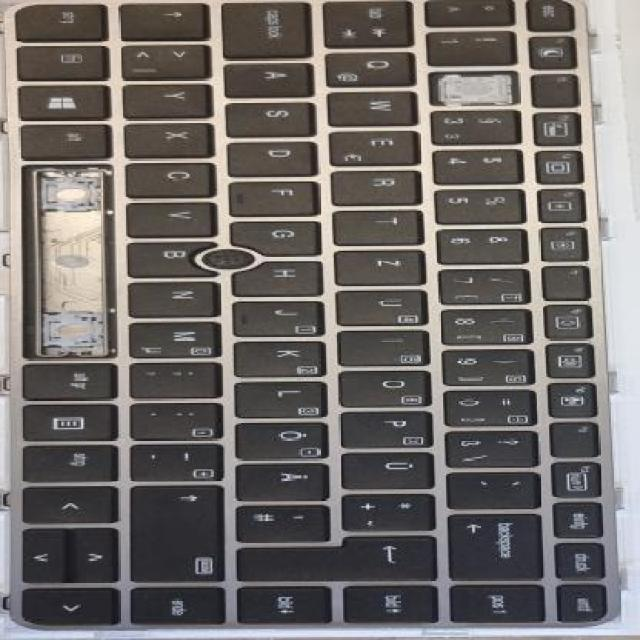Keyboard problems: (23, 168, 115, 355), (431, 72, 518, 105)
